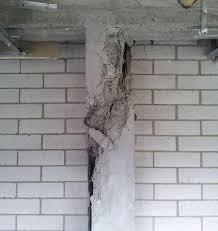spalling: (84, 26, 134, 205)
